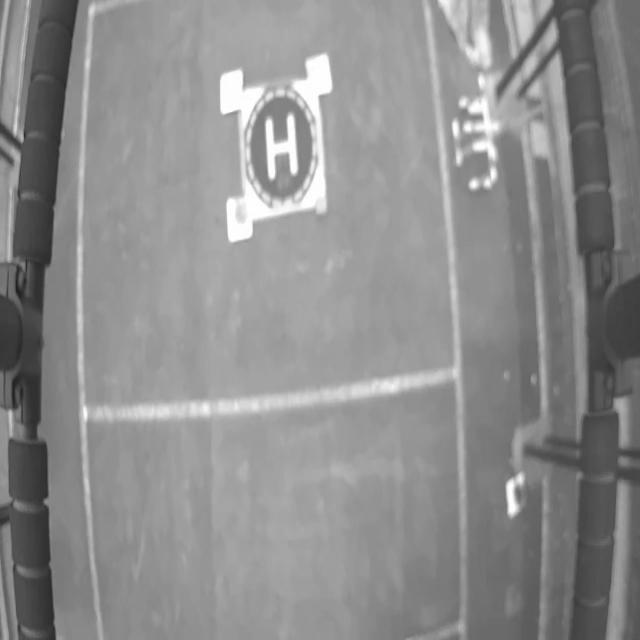Helipad: (265, 113, 299, 180)
